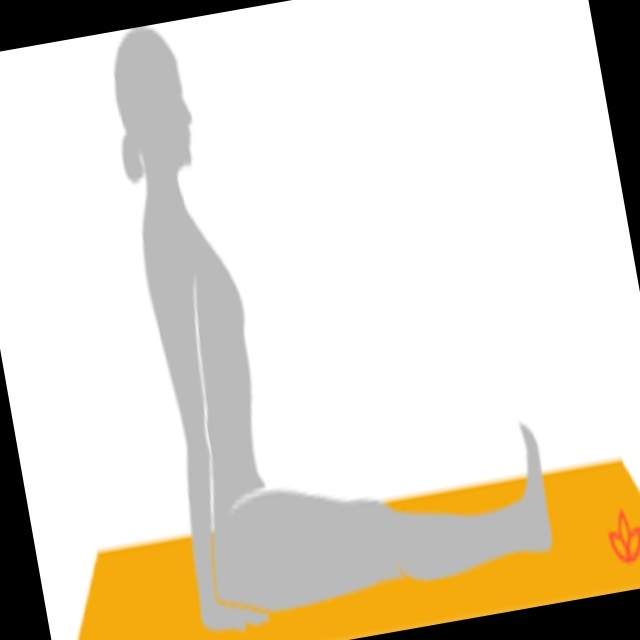Staff_Pose: (112, 25, 555, 632)
